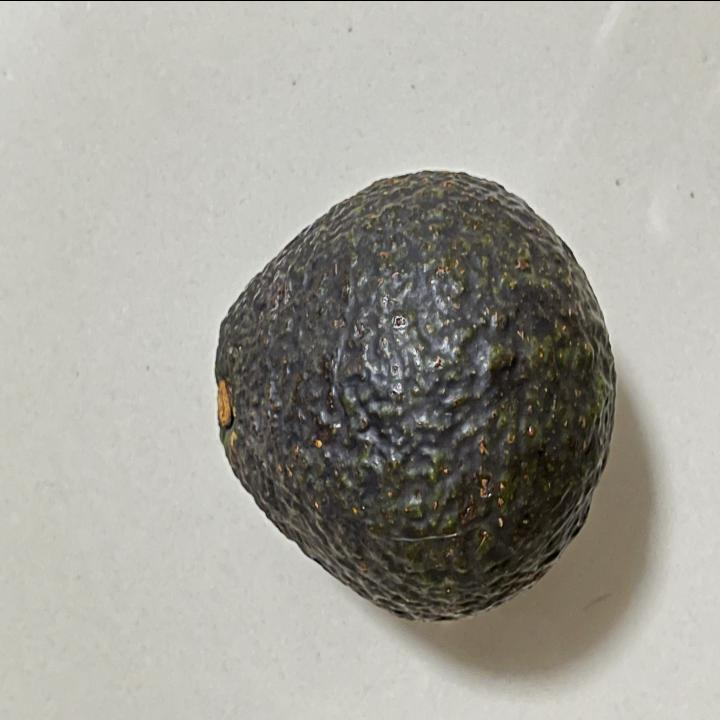Level1: (203, 148, 626, 636)
